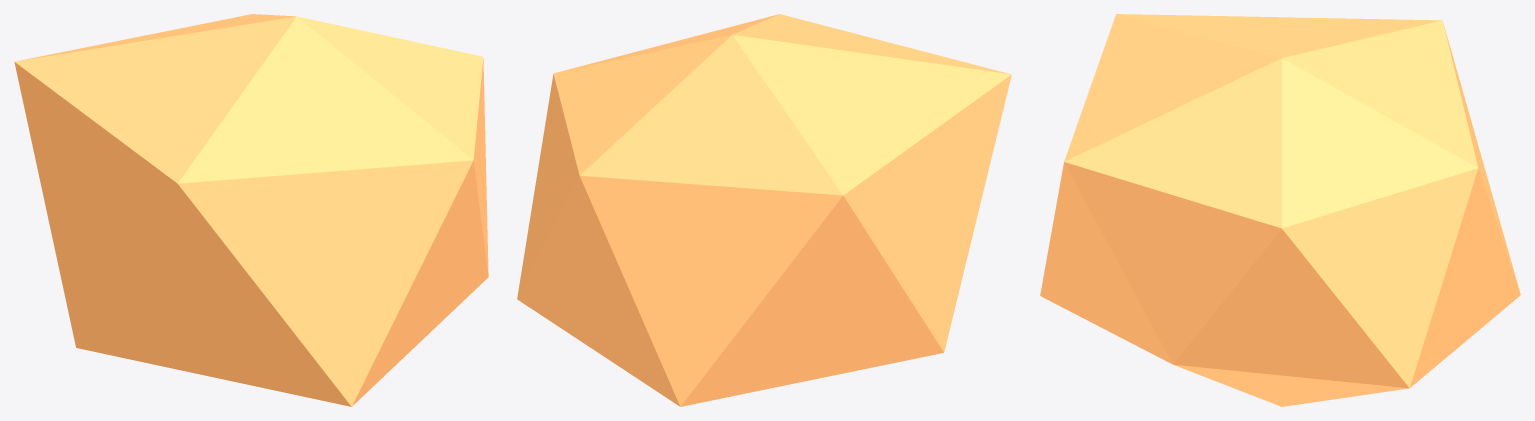
Rendered from chunk-ferrite.glb.
3 views of the same model, side by side, from view 1: azimuth 30°, elevation 25°; view 2: azimuth 150°, elevation 25°; view 3: azimuth 270°, elevation 25° (orthographic). The views are drawn at different scales.
Visible parts, largest first — view 1: chunk-ferrite; view 2: chunk-ferrite; view 3: chunk-ferrite.
Part boxes in pixels (x1,y1,x2,y2): chunk-ferrite: (14,14,488,406); chunk-ferrite: (517,14,1011,406); chunk-ferrite: (1040,14,1520,406).
Bounding box in the file's own units: 0.1505 × 0.1279 × 0.1598.
